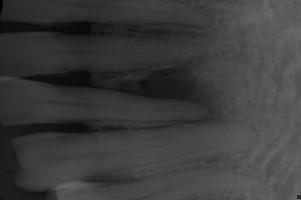Furcation Involvement: (111, 65, 220, 121)
